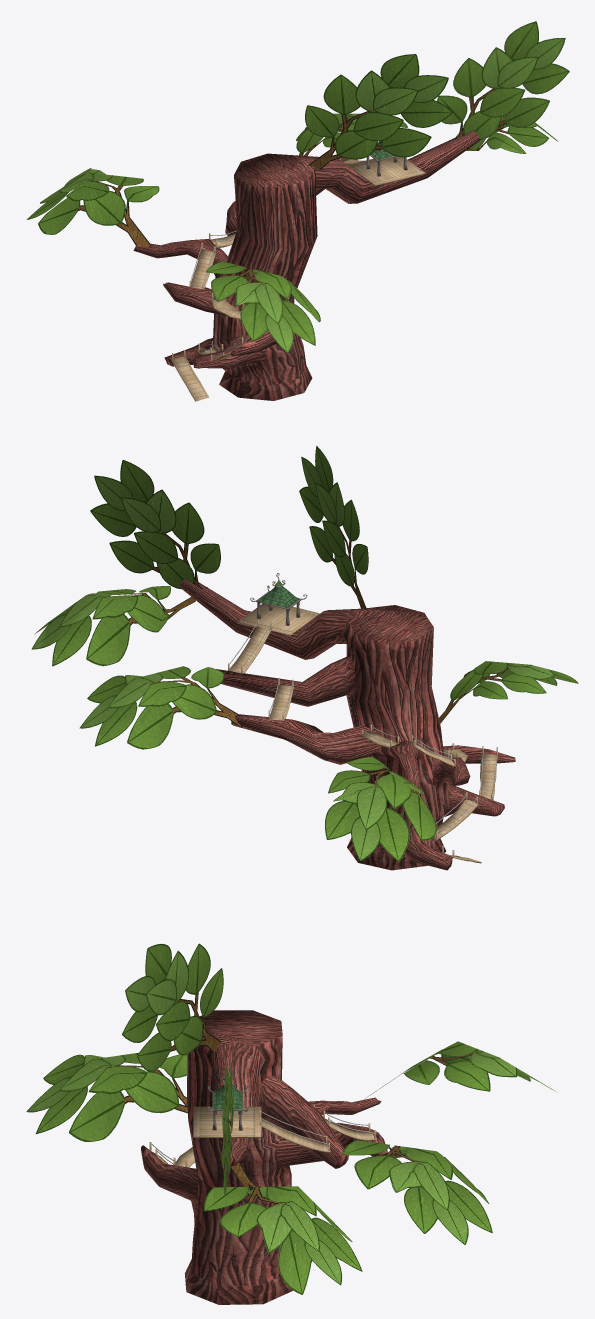
File: tree_village.obj
The picture shows the model from 3 angles, top to bottom: view 1: azimuth 30°, elevation 25°; view 2: azimuth 150°, elevation 25°; view 3: azimuth 270°, elevation 25°; orthographic projection. The views are drawn at different scales.
Parts seen in each view (by area): view 1: Form21, Form1, Form23; view 2: Form21, Form1, Form23, rope; view 3: Form21, Form1.
Part boxes in pixels (x1,y1,x2,y2): Form21: [44, 54, 557, 400]; Form1: [26, 21, 569, 353]; Form23: [171, 348, 215, 401]; Form21: [34, 446, 578, 870]; Form1: [31, 446, 555, 861]; Form23: [434, 799, 481, 863]; rope: [229, 620, 497, 832]; Form21: [43, 943, 554, 1304]; Form1: [26, 944, 554, 1285].
Bounding box in the file's own units: 315 × 204 × 261.
Materials: 7 (6 with a texture image).
